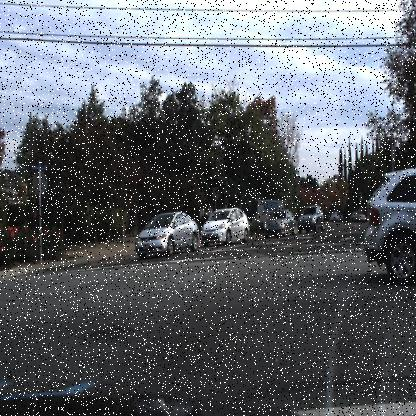car: (135, 210, 199, 256), (197, 206, 250, 246), (262, 208, 296, 241), (297, 204, 325, 236), (348, 206, 366, 222)
